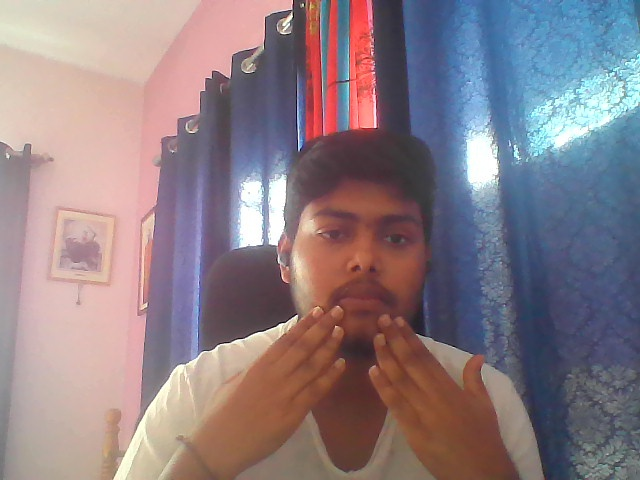Thank You: (180, 300, 528, 470)
